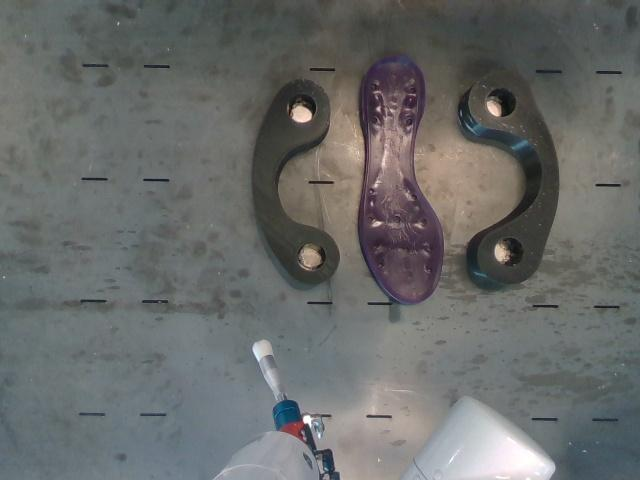shoes: (358, 56, 444, 303)
